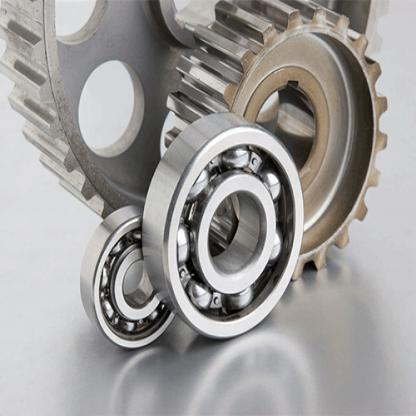FOD: (0, 0, 389, 223), (152, 0, 389, 284), (142, 113, 305, 350), (77, 203, 178, 353)
